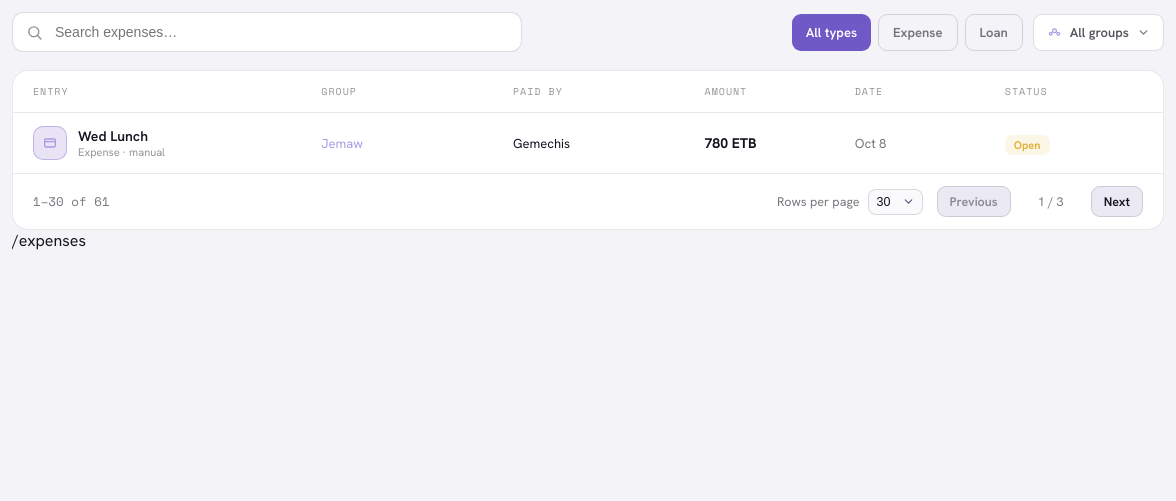
Test: Expenses › puts the range and a 30-row page size in the footer and shows the real split
This screenshot has width=1176, height=501.
Expected: the text "1–30 of 61" is shown, [33, 192, 110, 211]
Expected: the dropdown labelled "Rows per page" shows "30", [868, 188, 922, 214]
Click the text "Wed Lunch". click: click(113, 136)
box: [78, 127, 148, 145]
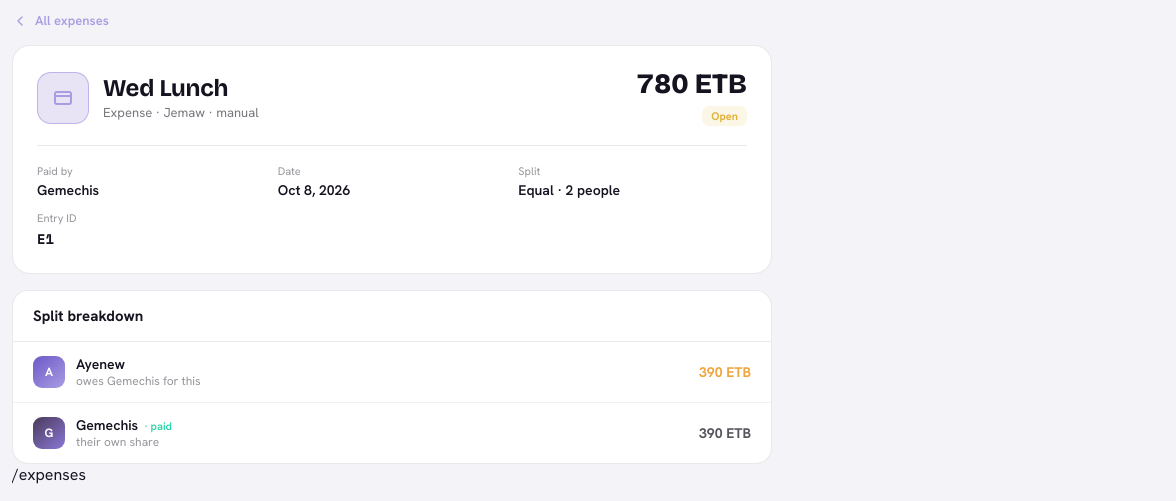
Expected: the text "Equal · 2 people" is shown, [518, 181, 620, 199]
Expected: the text "owes Gemechis for this" is shown, [76, 373, 201, 389]
